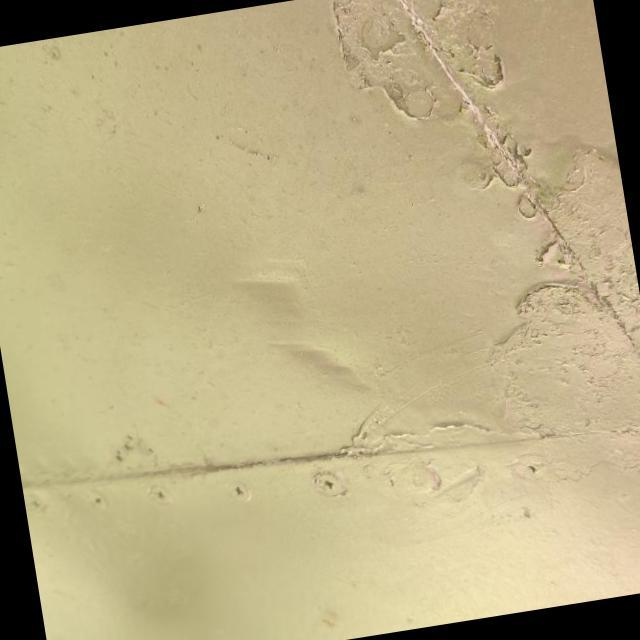Dent: (193, 235, 402, 430)
